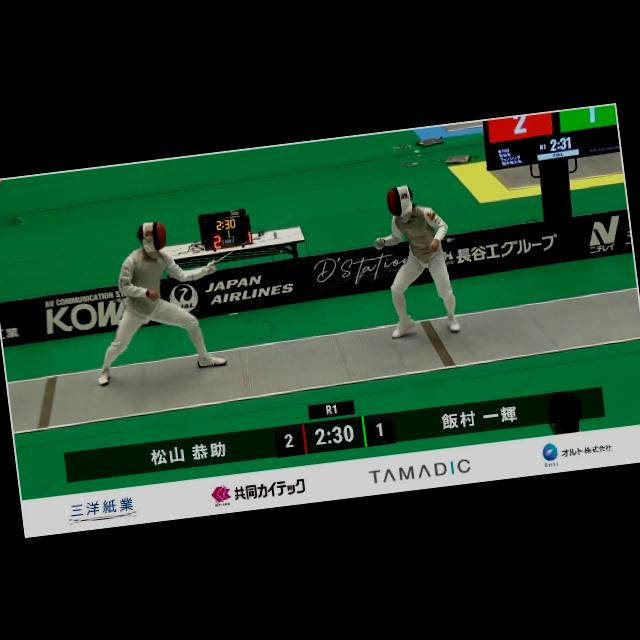blade: (203, 210, 301, 272), (346, 236, 393, 294)
